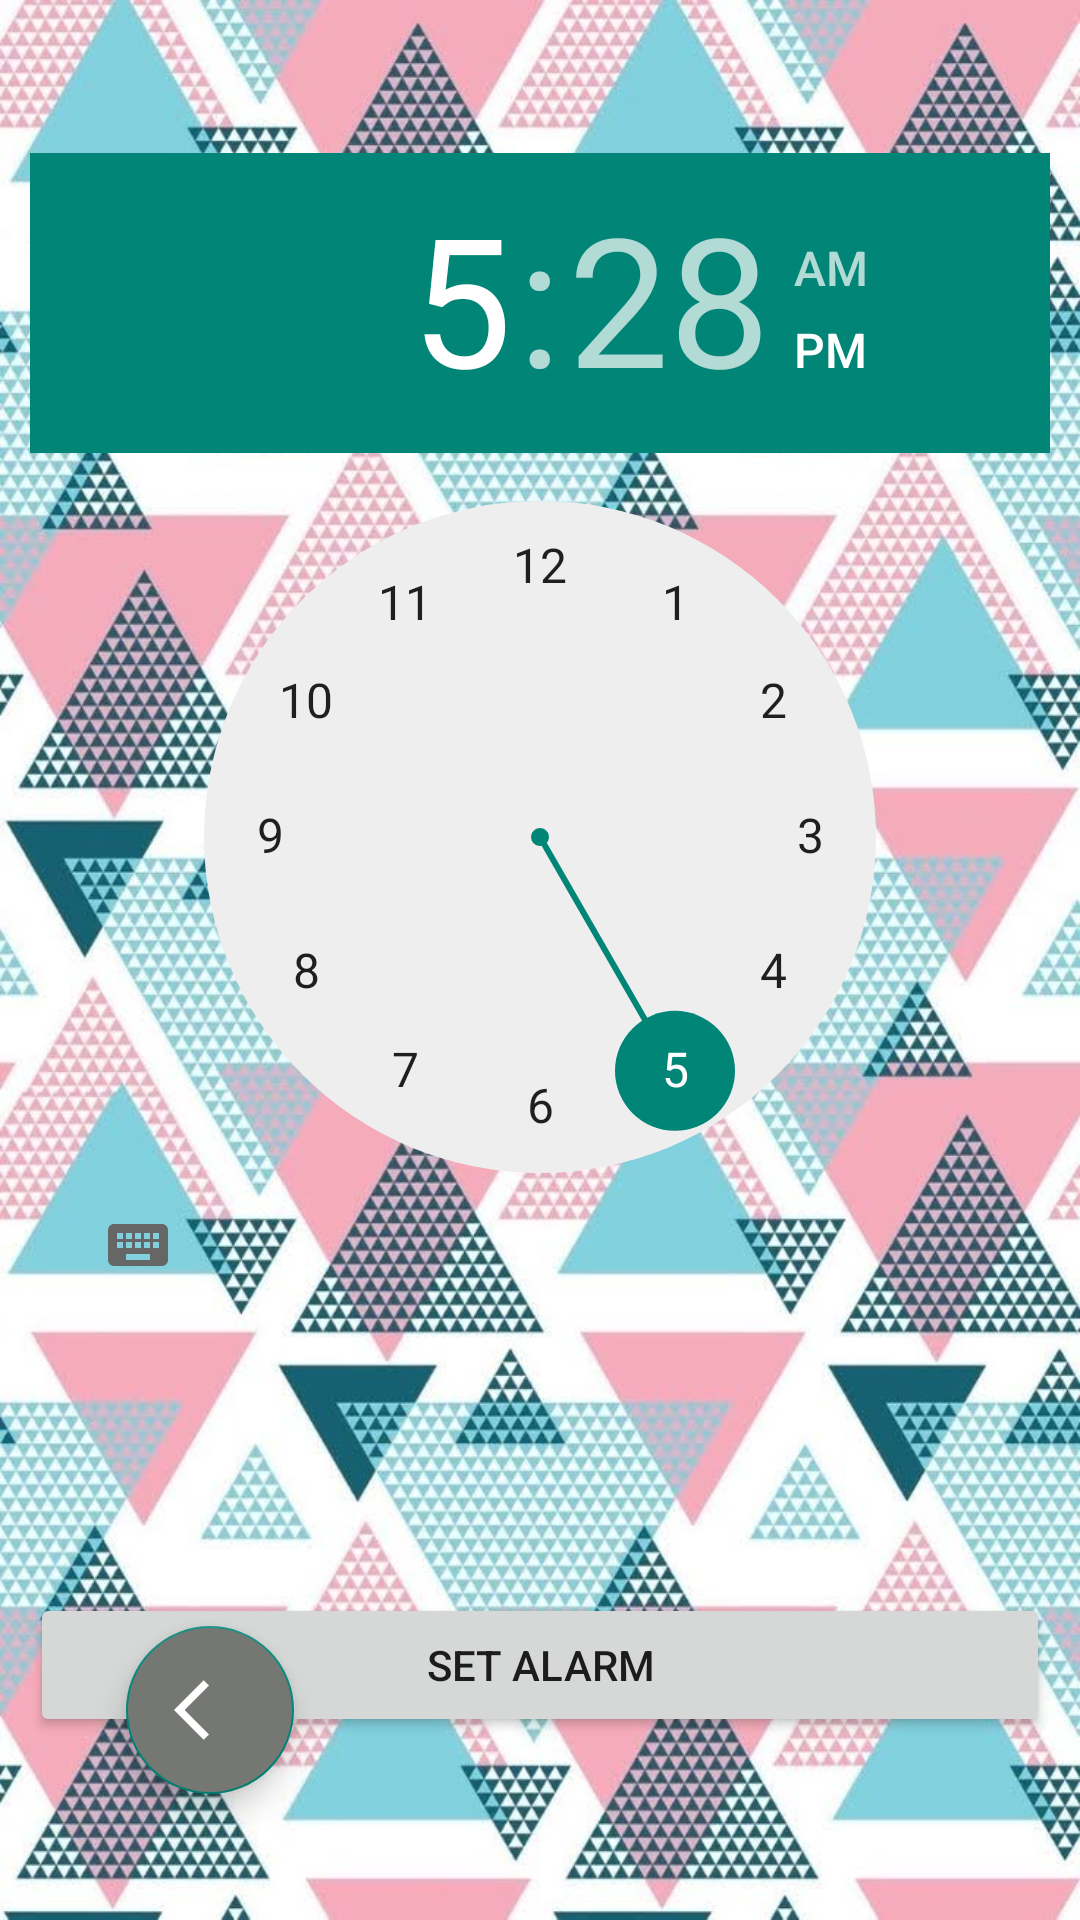

Named icons in this screenshot (1080 × 1920) and their centers, [x,y]:
arrow back: [210,1710]
